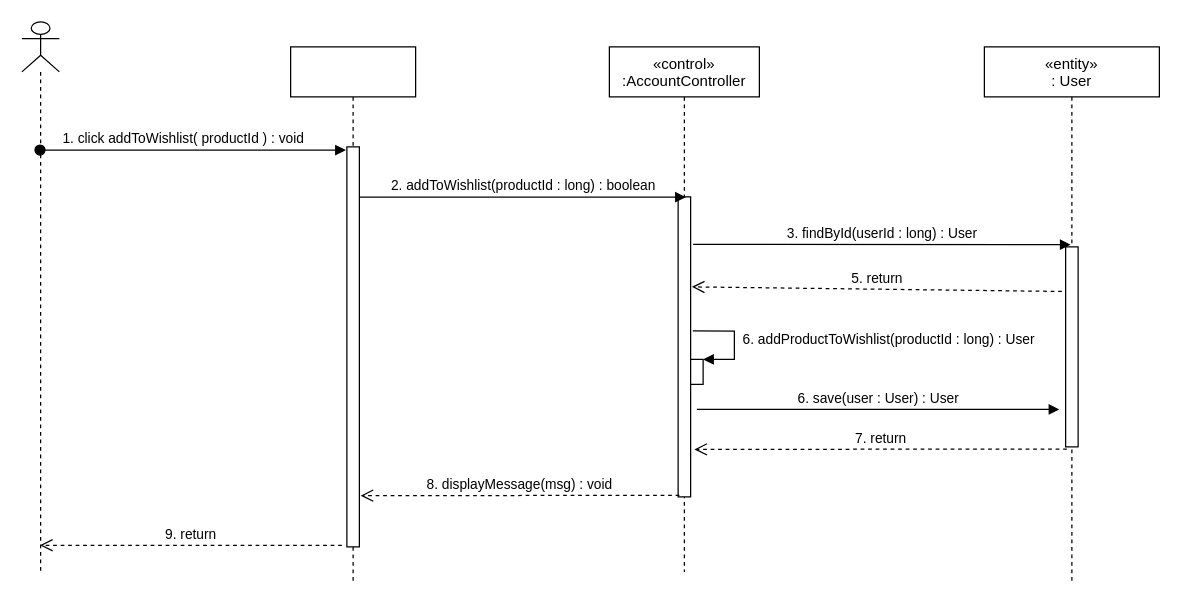
The diagram is 1181 pixels wide and 606 high, and some of its shapes have lost their labels. The box of each missing label's shape, as (x1, y1, x2, y2) in pixels:
Người dùng: (21, 21, 59, 572)
«boundary» :ProductView: (289, 46, 416, 584)
